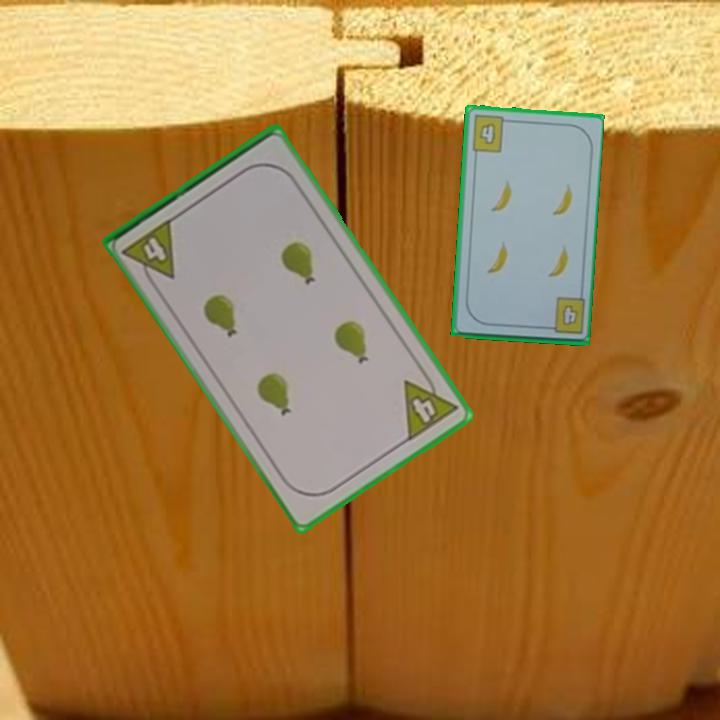4b: (541, 294, 587, 337), (468, 112, 513, 155)
4p: (400, 365, 461, 444), (119, 215, 179, 292)
